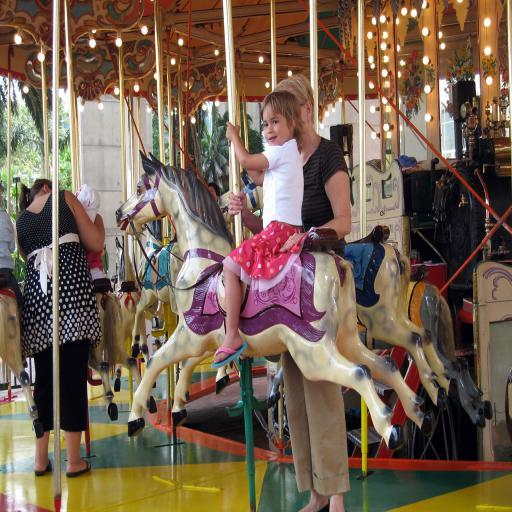Horse: (114, 149, 434, 453), (344, 238, 462, 416), (356, 284, 493, 426), (88, 291, 157, 427), (130, 228, 184, 362), (1, 280, 43, 444)
